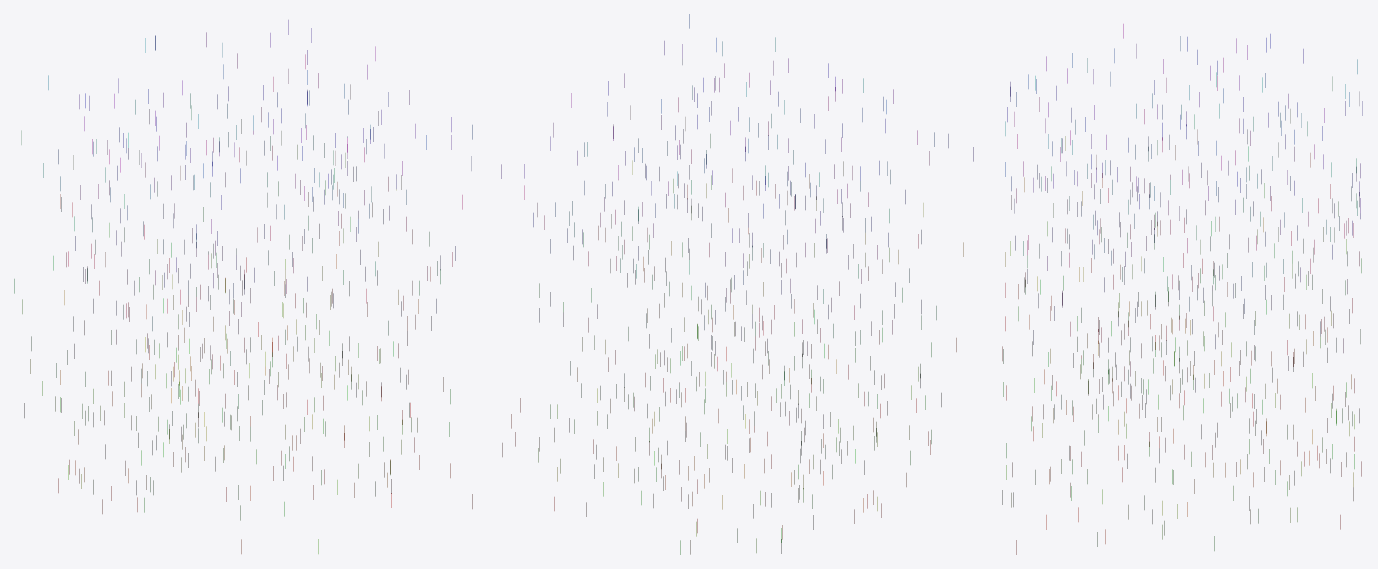
The model's file is SM_RainTile.fbx.
3 renders of one model, left to right at view 1: azimuth 30°, elevation 25°; view 2: azimuth 150°, elevation 25°; view 3: azimuth 270°, elevation 25°, orthographic. The views are drawn at different scales.
Visible parts, largest first — view 1: SM_RainTile; view 2: SM_RainTile; view 3: SM_RainTile.
Boxes of the visible parts, x1,y1,x2,y2 form: SM_RainTile: (14, 20, 472, 553); SM_RainTile: (501, 14, 973, 554); SM_RainTile: (1002, 24, 1362, 554).
Bounding box in the file's own units: 1197 × 1195 × 1454.
